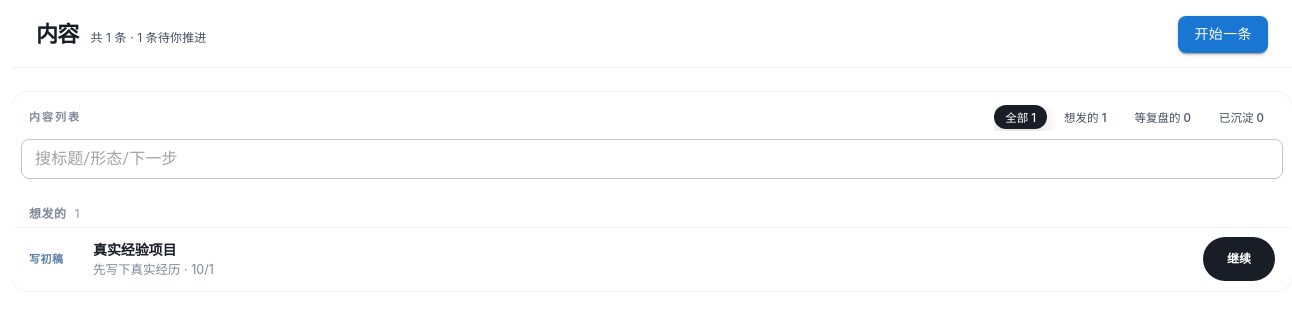
Test: ContentPage › search empty state shows query + clear button
Expected: the text "真实经验项目" is shown, [93, 240, 176, 258]
Type "不存在" into the field at (652, 158), box [21, 138, 1283, 178]
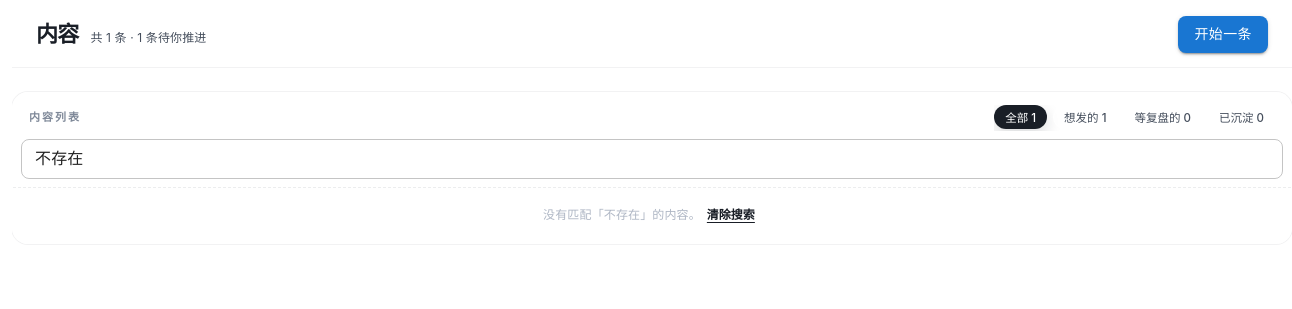
Expected: the text "没有匹配「不存在」的内容。 清除搜索" is shown, [13, 186, 1291, 242]
Click the button "清除搜索" at (731, 215), box [701, 202, 761, 228]
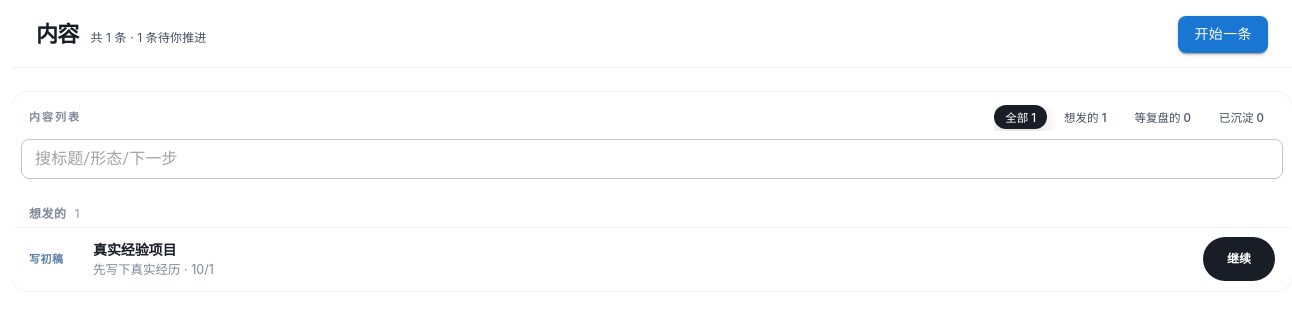
Expected: the text "真实经验项目" is shown, [93, 240, 176, 258]
